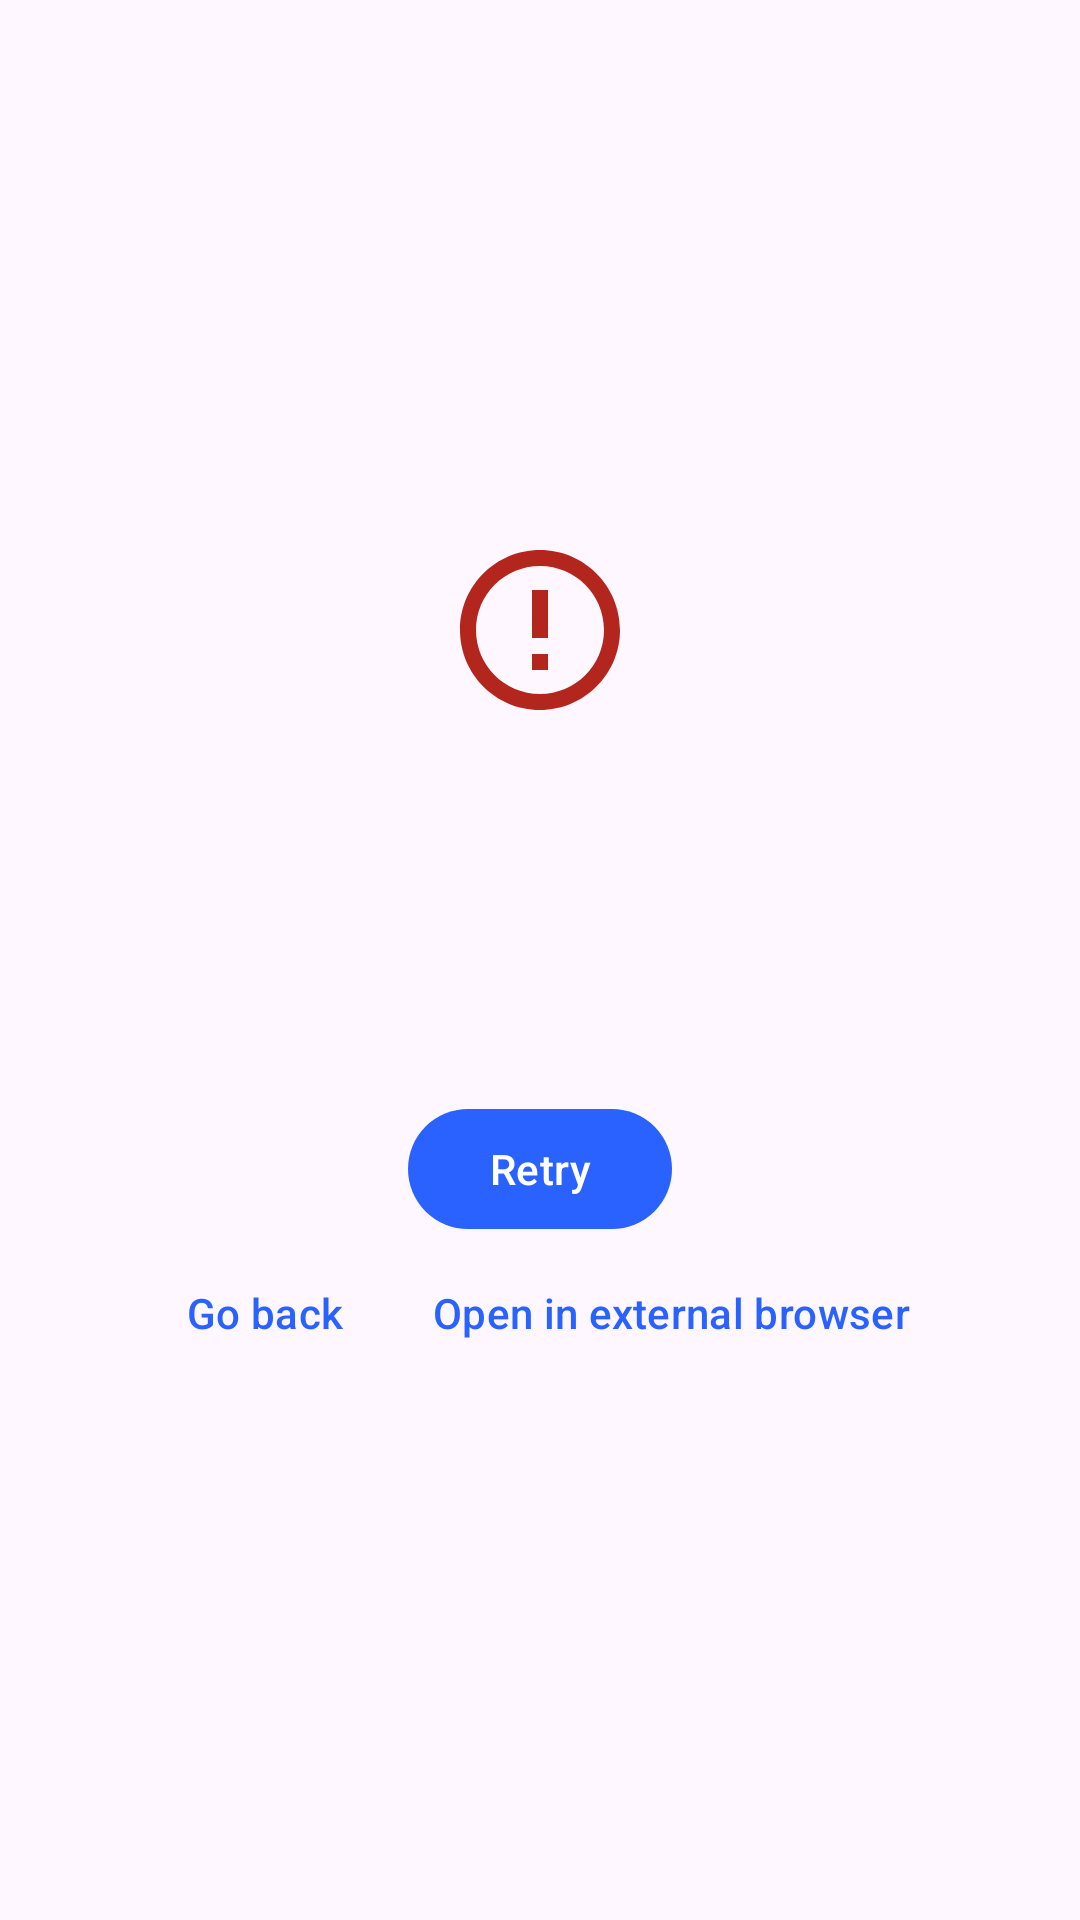

Where icons sit on this 1080 x 1920 app screen, as box=[x1, y1, x2, y2]:
error: box=[460, 550, 620, 710]
